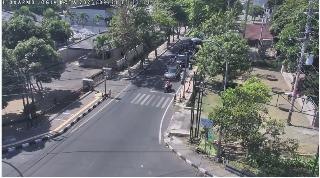mobil: (165, 64, 182, 80)
motor: (162, 78, 174, 95)
